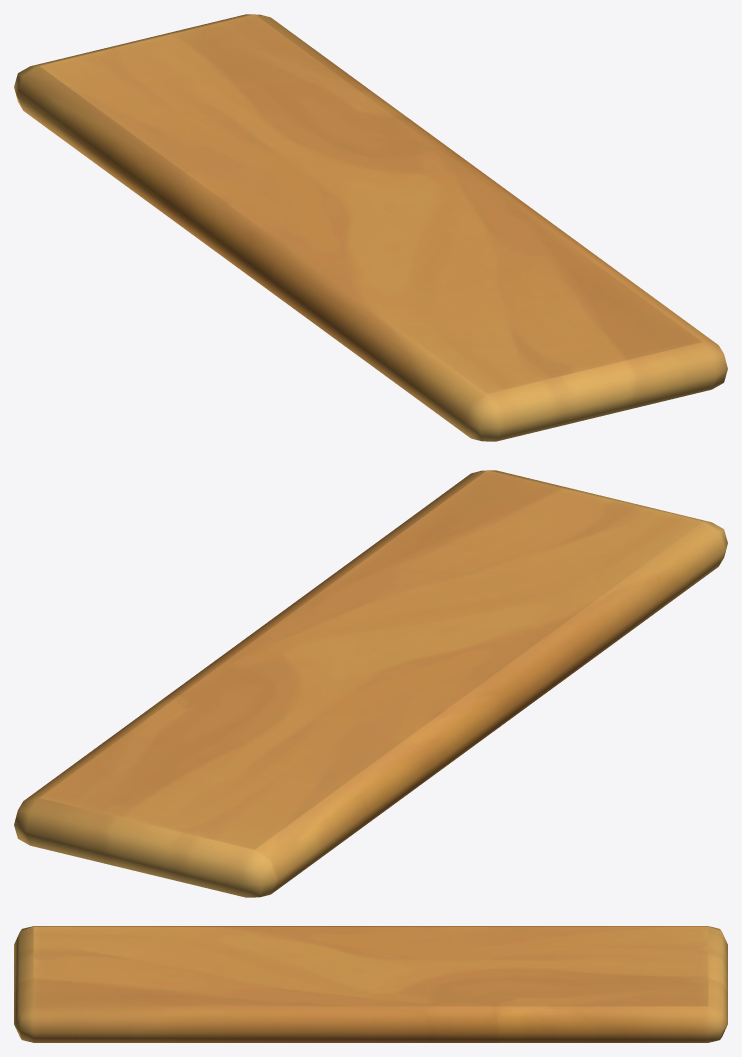
The model's file is Plank_01.fbx.
The picture shows the model from 3 angles, top to bottom: view 1: azimuth 30°, elevation 25°; view 2: azimuth 150°, elevation 25°; view 3: azimuth 270°, elevation 25°; orthographic projection. The views are drawn at different scales.
Parts seen in each view (by area): view 1: Plank_01; view 2: Plank_01; view 3: Plank_01.
Boxes of the visible parts, <box> form: Plank_01: <box>14,14,727,441</box>; Plank_01: <box>14,470,727,897</box>; Plank_01: <box>14,926,727,1042</box>.
Size of the model in its own units: 0.5718 by 0.1015 by 1.8.
